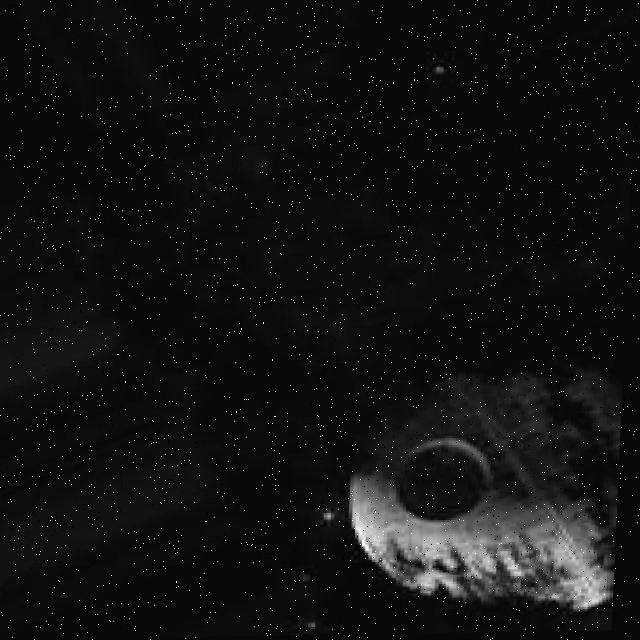deathstar: (351, 372, 625, 616)
